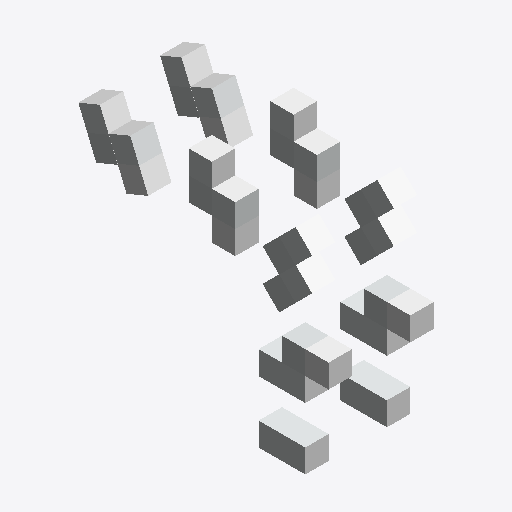
A Minecraft block model of 18 cuboids, rendered isometrically (azimuth 45°, elevation 35.3°) with the resource pack's own textures.
Parts seen in each view (by area): element 4, element 2, element 11, element 5, element 9, element 16, element 14, element 18, element 17, element 1, element 15, element 3 (+6 smaller).
Part boxes in pixels (x1,y1,x2,y2): element 4: (109,120,170,195); element 2: (212,175,258,255); element 11: (364,275,433,341); element 5: (282,322,351,389); element 9: (259,407,328,473); element 16: (294,128,339,208); element 14: (190,73,252,146); element 18: (340,360,409,426); element 17: (270,88,316,167); element 1: (189,135,234,214); element 15: (160,42,212,117); element 3: (79,89,131,164).
Bounding box in the file's own units: 4.5 × 9.6 × 10.72.